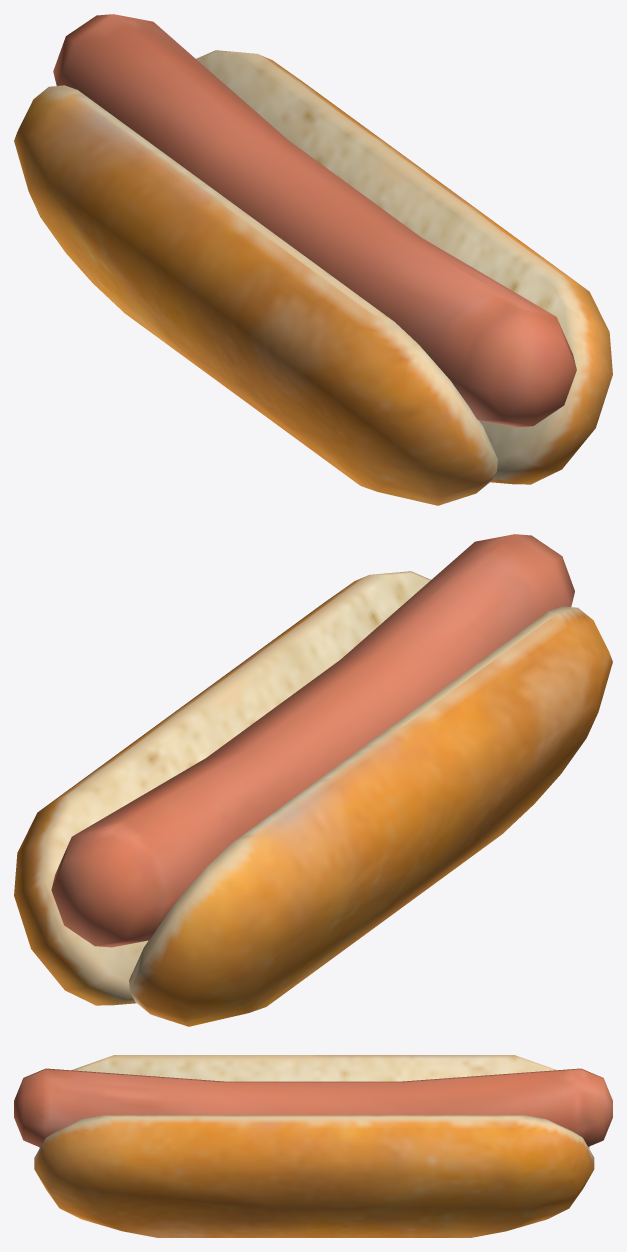
The model's file is hot_dog.fbx.
3 renders of one model, top to bottom at view 1: azimuth 30°, elevation 25°; view 2: azimuth 150°, elevation 25°; view 3: azimuth 270°, elevation 25°, orthographic. The views are drawn at different scales.
Parts seen in each view (by area): view 1: hot_dog; view 2: hot_dog; view 3: hot_dog.
Boxes of the visible parts, left/top/right/bottom form: hot_dog: left=14, top=14, right=612, bottom=505; hot_dog: left=14, top=534, right=612, bottom=1026; hot_dog: left=14, top=1055, right=612, bottom=1237.
Size of the model in its own units: 7.19 by 5.25 by 19.25.
1 material, 1 textured.
